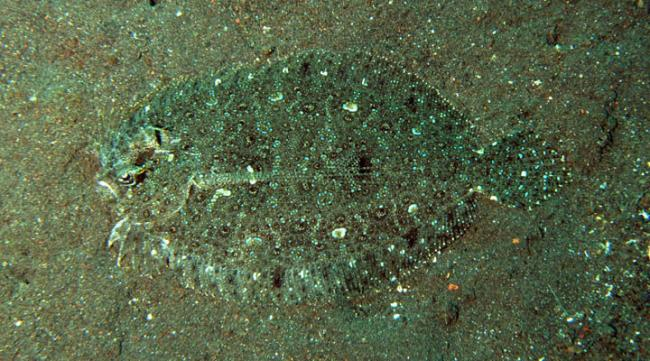fish: (98, 48, 566, 304)
